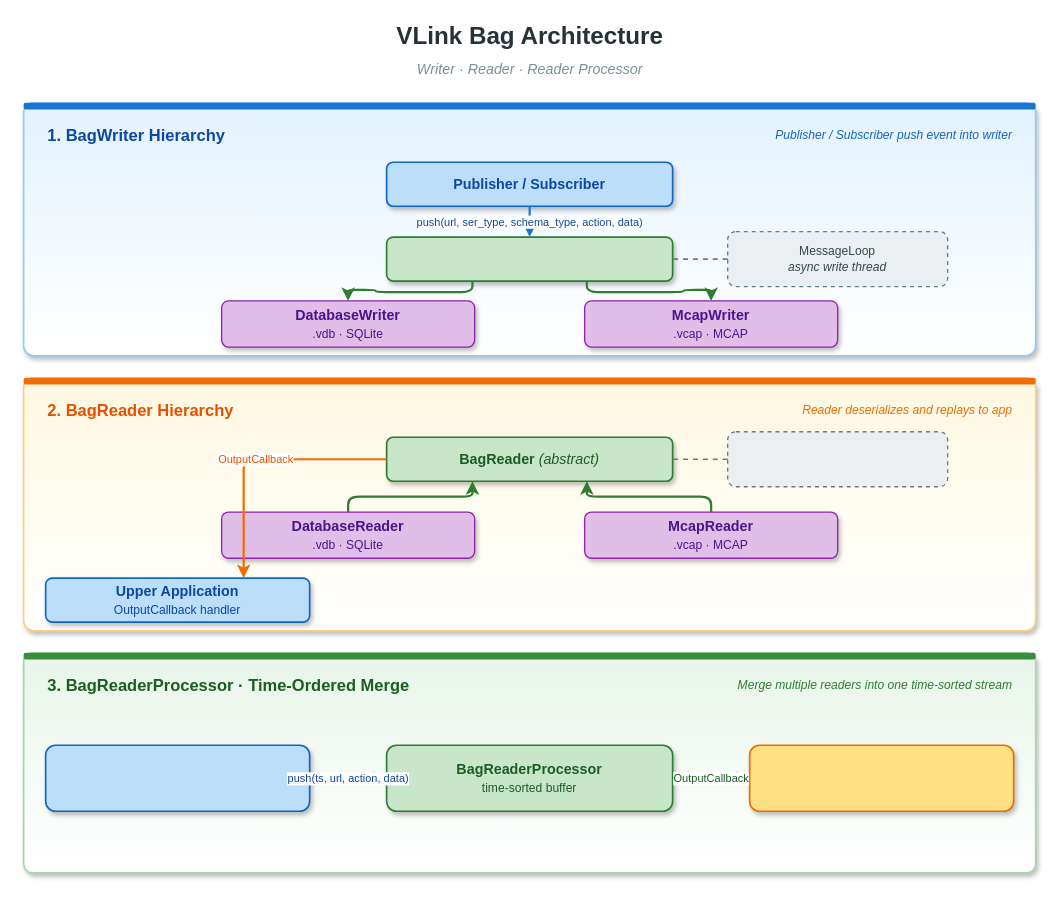
Some shapes in this 1063 by 900 pixel diagram are drawn without their labels. The shapes that lost their labels are listed below. From the top down, each one's centre as x and y in pixels, then its label:
the point at 530,260: BagWriter (abstract)
the point at 837,459: MessageLoop playback thread
the point at 178,779: Multiple BagReaders different sources / formats
the point at 882,779: Upper Application time-ordered stream
